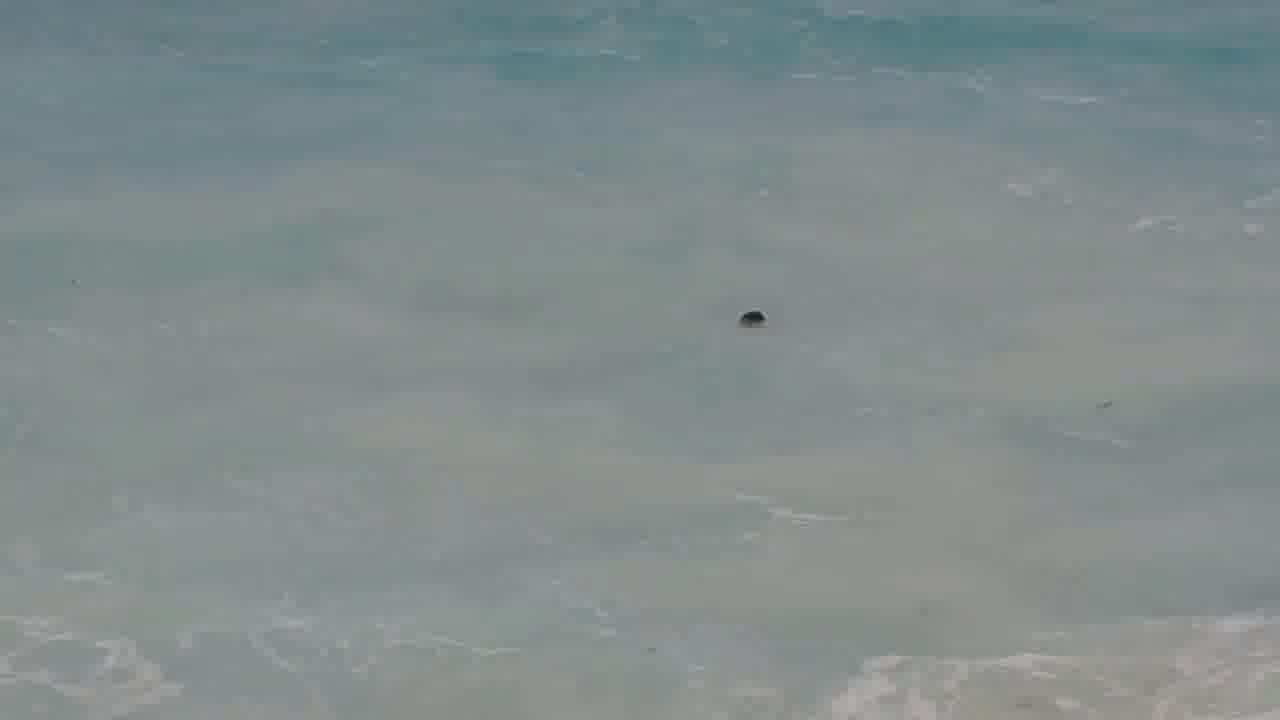human: (729, 300, 778, 338)
